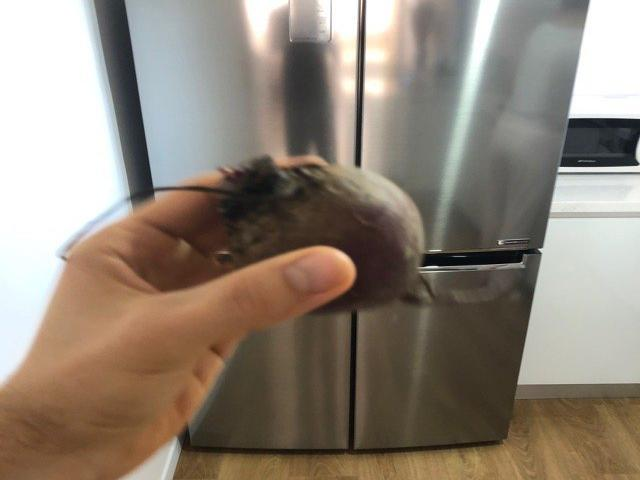beet: (60, 156, 459, 313)
